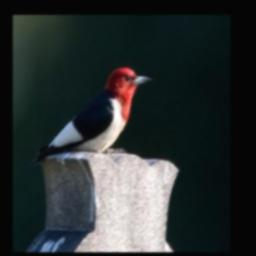Woodpecker: (26, 64, 156, 173)
